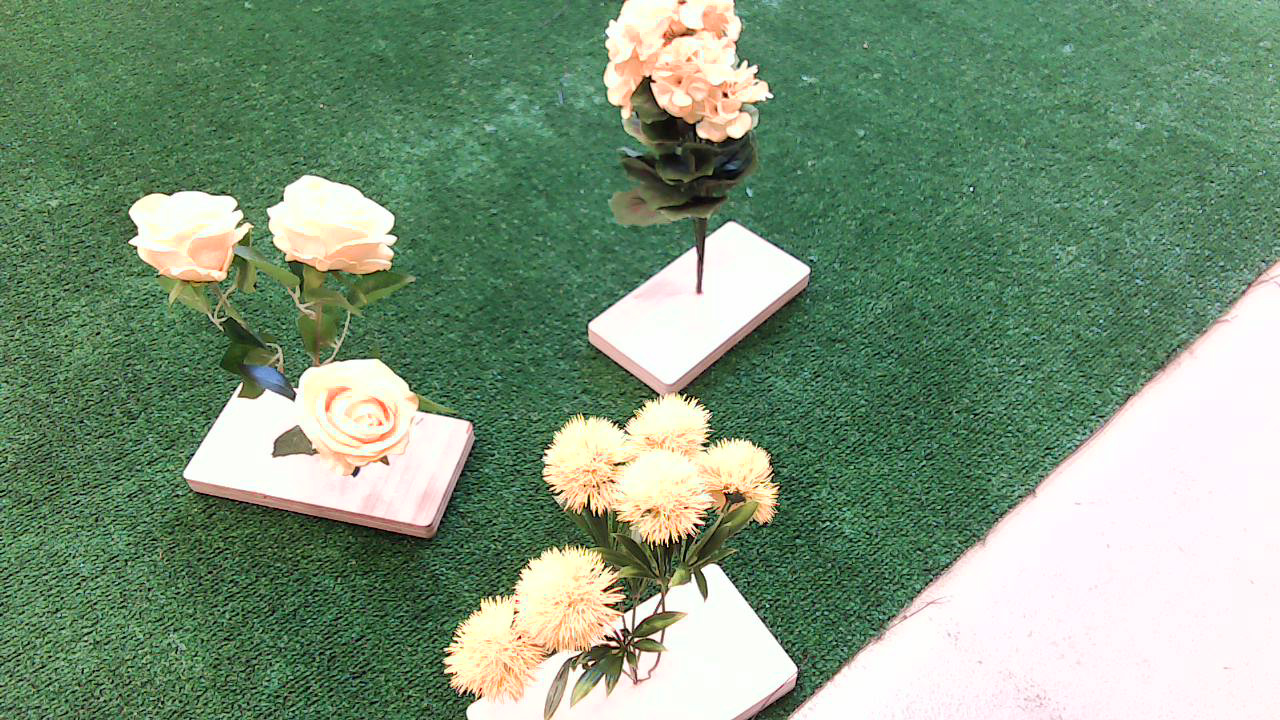dandelion: (449, 396, 794, 708)
geranium: (577, 3, 794, 253)
rose: (86, 175, 454, 486)
